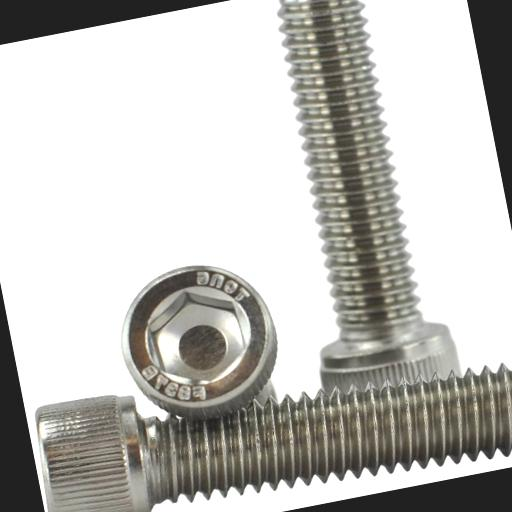Hex-Allen: (112, 244, 290, 430)
